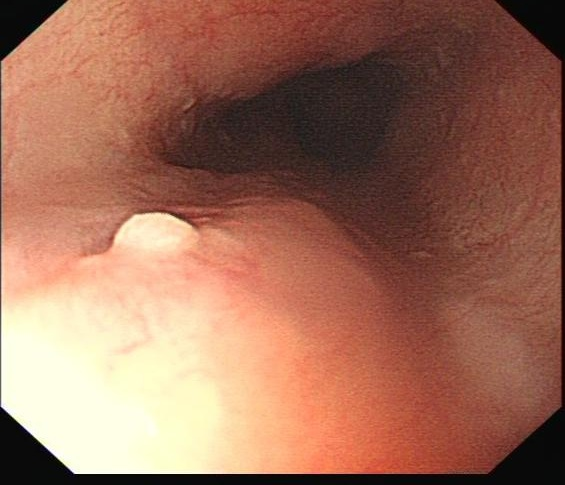Polyp: (106, 209, 203, 264)
